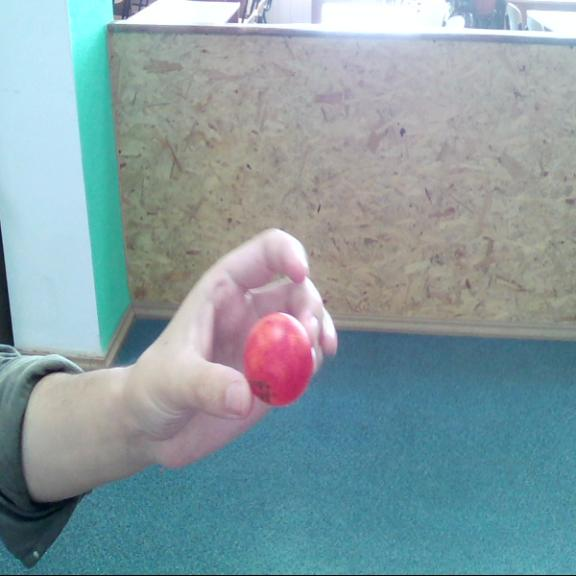ball: (244, 310, 314, 405)
